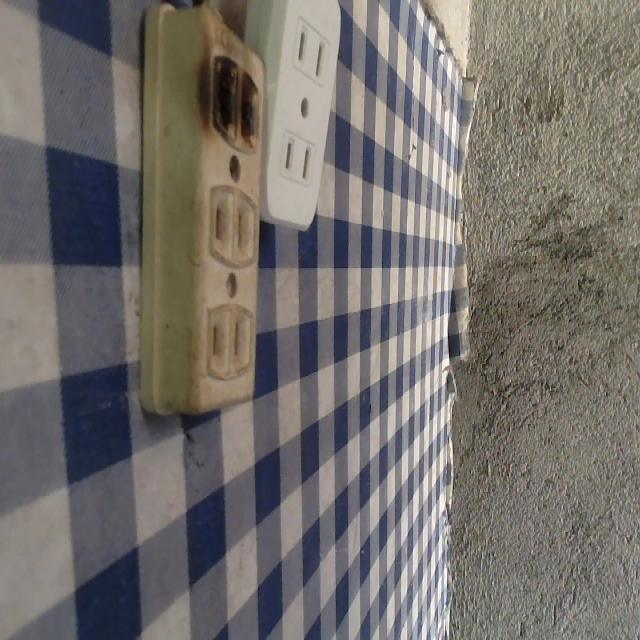-: (199, 41, 270, 160)
